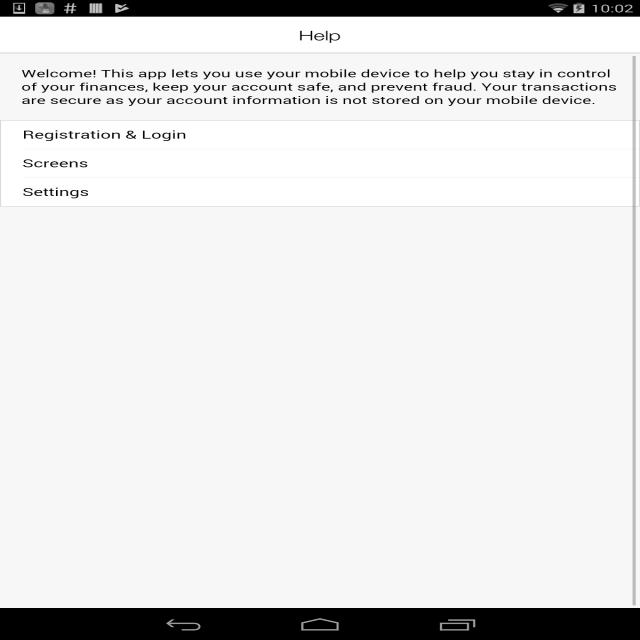TextView: (12, 62, 609, 114), (12, 174, 114, 206), (284, 22, 345, 41)
